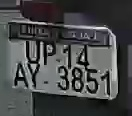1: (100, 68, 113, 97), (62, 45, 75, 68)
3: (54, 64, 69, 91)
4: (77, 44, 90, 70)
5: (82, 66, 101, 96)
8: (70, 66, 85, 94)
A: (12, 60, 28, 87)
P: (42, 37, 57, 66)
U: (21, 38, 41, 63)
Y: (25, 60, 42, 87)
